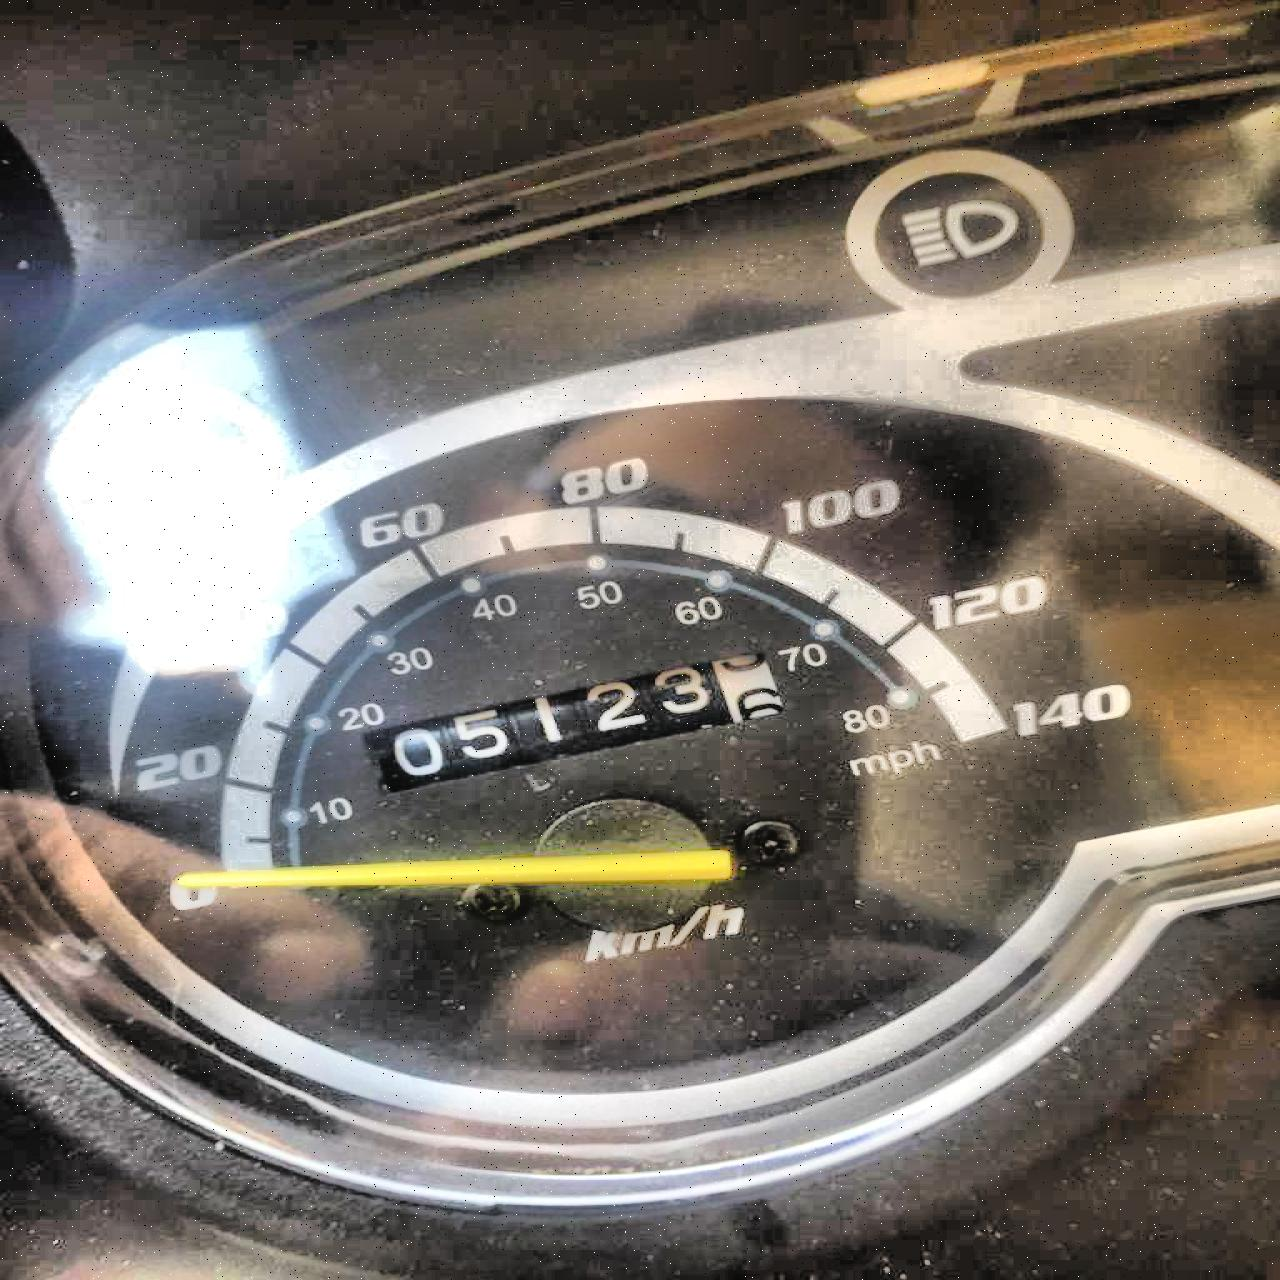0: (388, 726, 444, 776), (360, 701, 384, 726), (409, 645, 434, 669)
1: (530, 693, 561, 747)
2: (584, 678, 645, 731)
3: (652, 665, 710, 714), (383, 651, 410, 674)
5: (450, 707, 510, 758)
6: (730, 685, 785, 720)
odometer: (353, 644, 787, 802)
